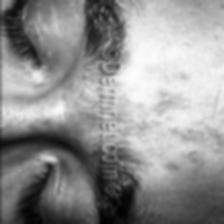Non-Cancerous Skin Condition: (79, 36, 224, 176)
